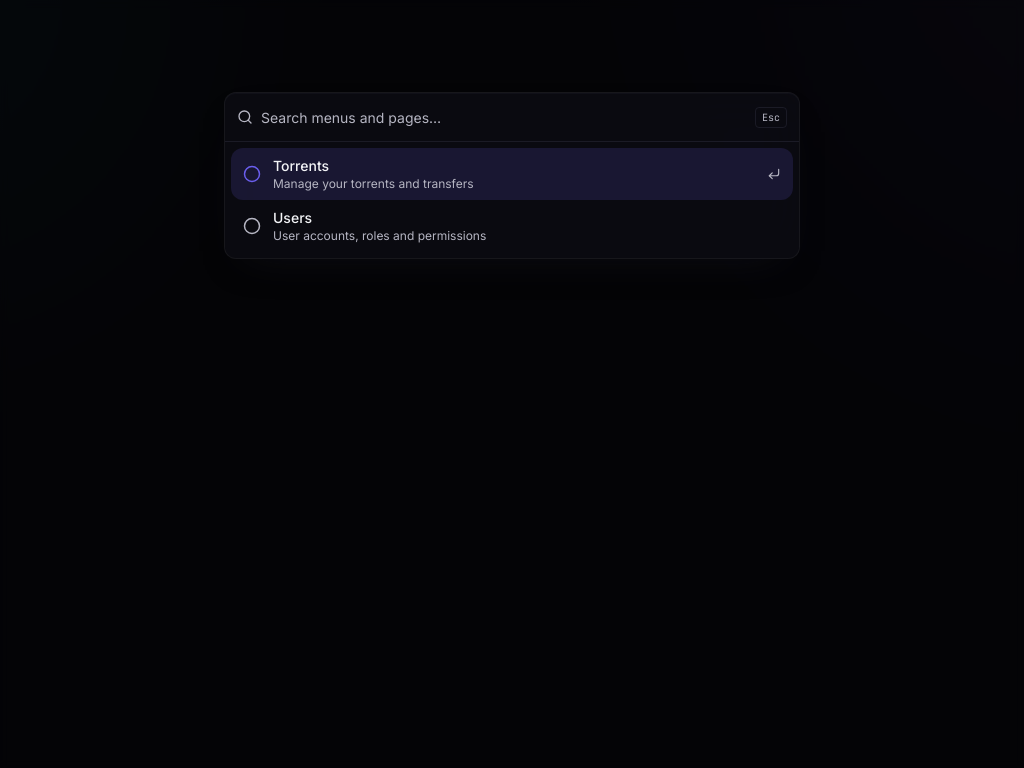
Test: CommandPalette › shows an empty state when nothing matches
This screenshot has width=1024, height=768.
Type "zzzzz" into the field at (504, 117), box [261,93,747,141]
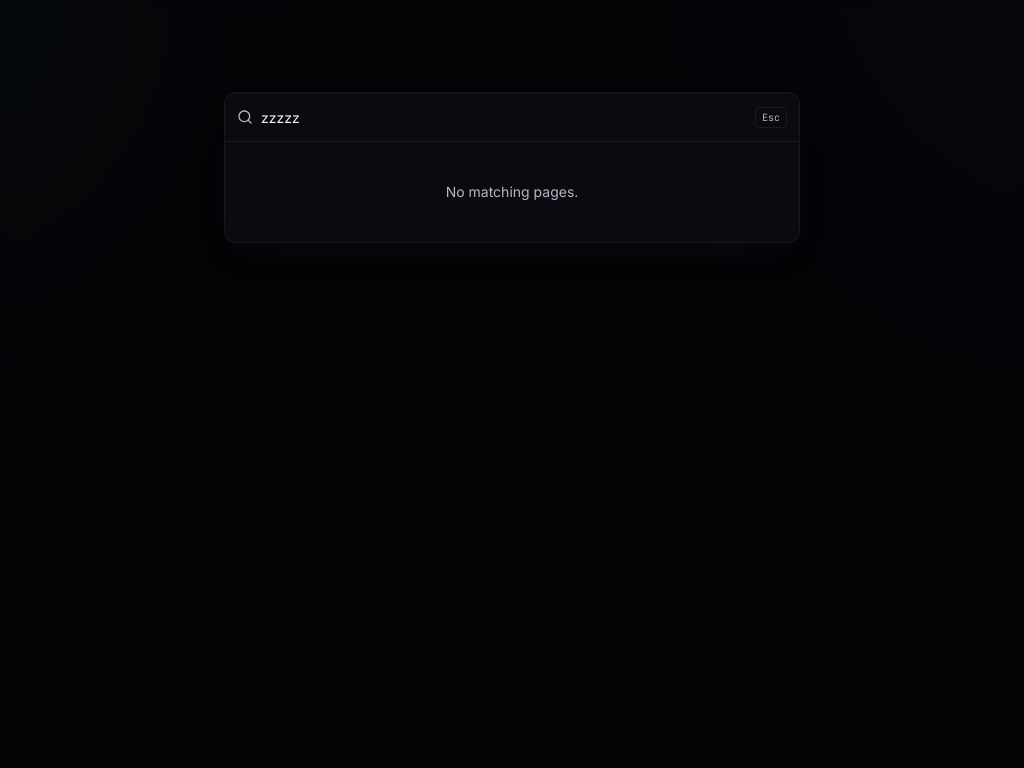
Result: the text "No matching pages." is shown at [446,183,578,200]
